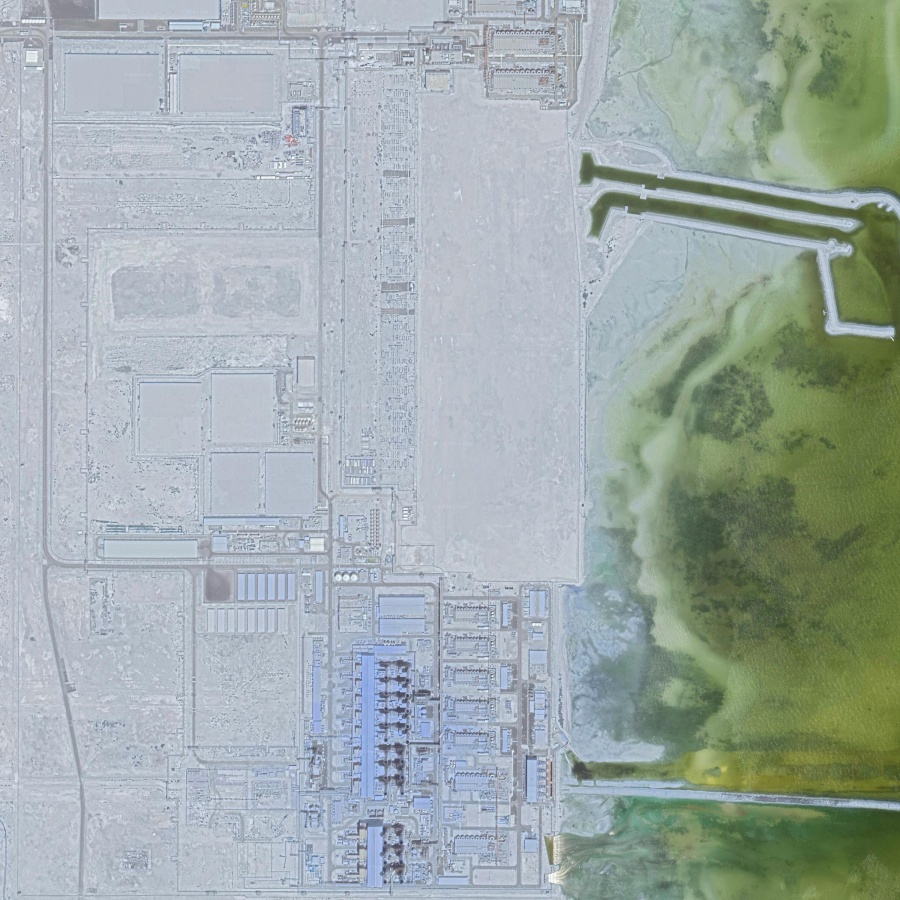PowerPlant: (322, 562, 584, 888)
